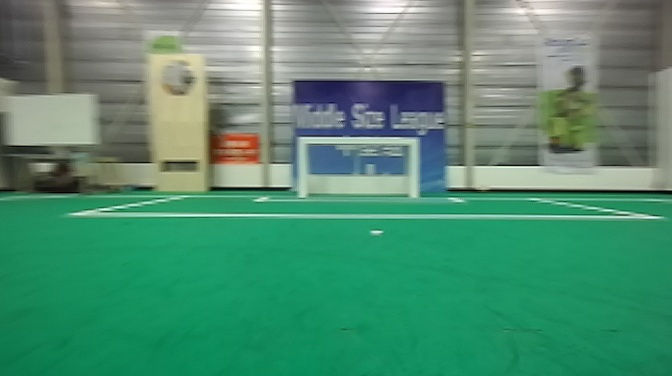goalpost: (293, 130, 312, 200), (404, 137, 425, 200)
